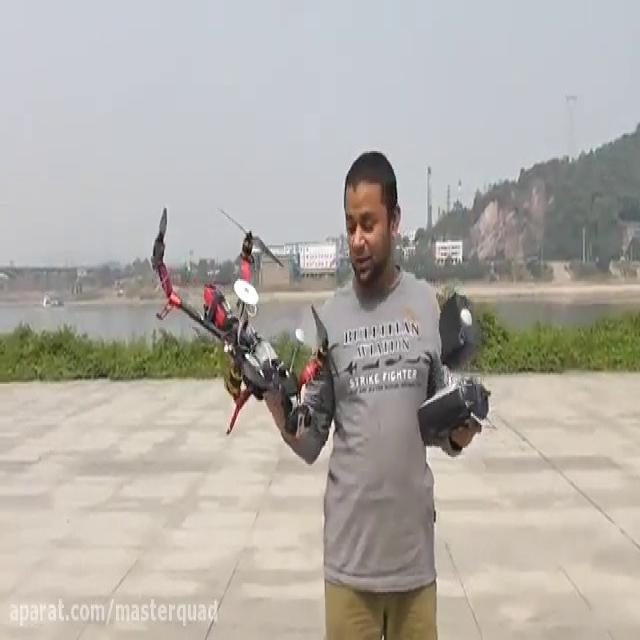drone: (143, 202, 340, 436)
